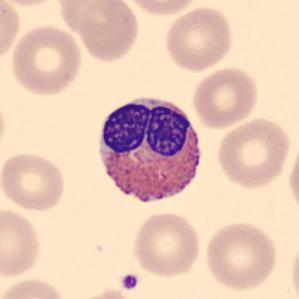Eosinophil: (91, 88, 210, 216)
Platelets: (120, 272, 140, 292)
RBC: (7, 22, 85, 98), (214, 115, 292, 190), (202, 219, 280, 293), (162, 4, 236, 74), (130, 210, 204, 279), (190, 65, 261, 129), (0, 150, 69, 213), (76, 1, 142, 64), (0, 205, 43, 280), (55, 1, 124, 35), (0, 275, 69, 299), (0, 0, 22, 67), (121, 0, 202, 18), (285, 135, 299, 216), (71, 286, 141, 299), (288, 234, 299, 298), (0, 91, 9, 158), (0, 0, 65, 7)
